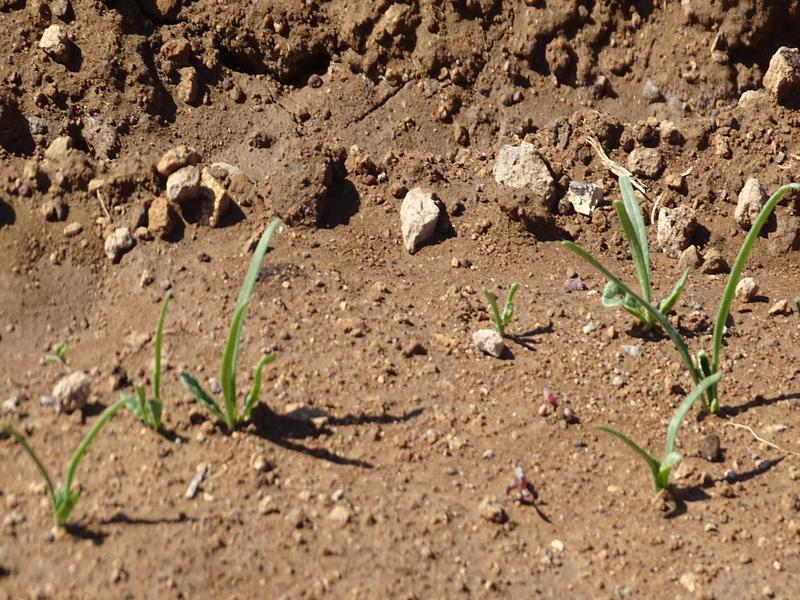Espinaca: (29, 218, 286, 519), (566, 166, 783, 500), (483, 277, 527, 335)
